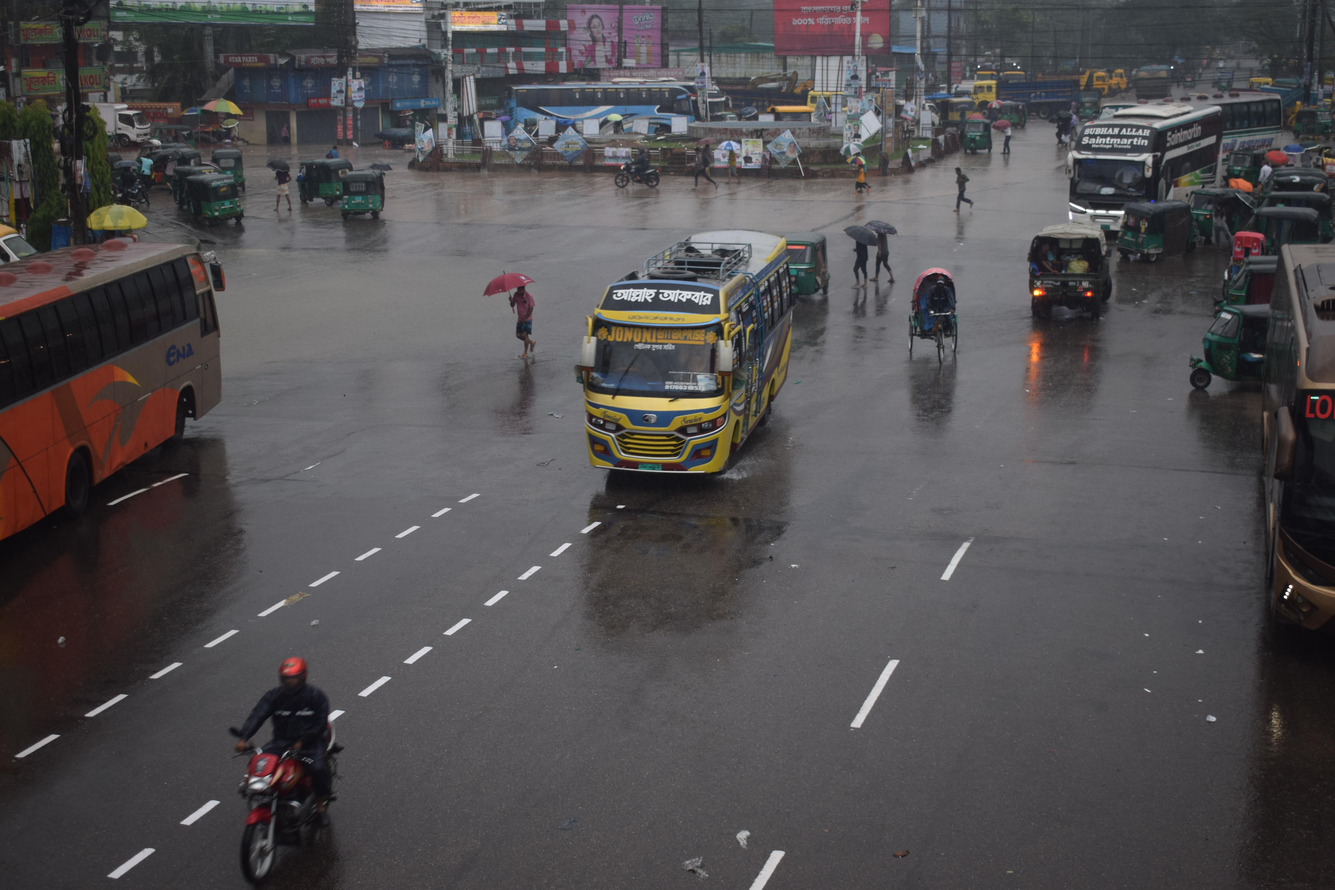Bike: (156, 611, 391, 890)
Bus: (0, 218, 268, 573), (546, 192, 816, 517), (1238, 217, 1335, 770), (467, 45, 733, 199), (1044, 69, 1236, 252)
Car: (880, 243, 997, 399)
Truck: (991, 203, 1131, 362), (960, 64, 1093, 139)
